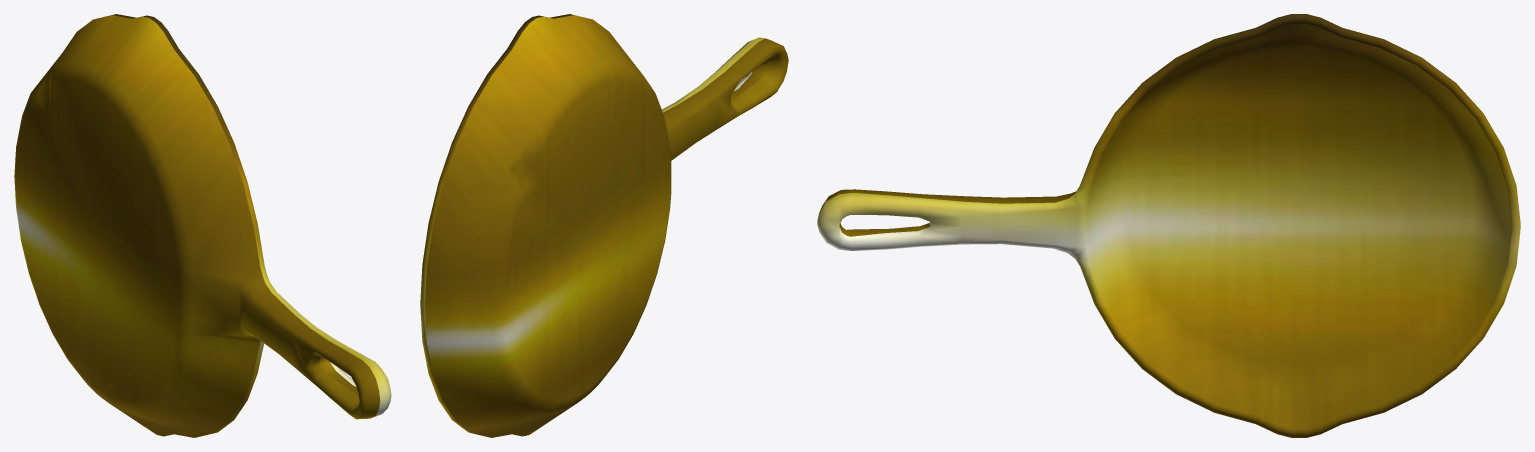
Rendered from golden_frying_pan.obj.
The picture shows the model from 3 angles, left to right: view 1: azimuth 30°, elevation 25°; view 2: azimuth 150°, elevation 25°; view 3: azimuth 270°, elevation 25°; orthographic projection. The views are drawn at different scales.
Parts seen in each view (by area): view 1: tf2FryingPan.001; view 2: tf2FryingPan.001; view 3: tf2FryingPan.001.
Boxes of the visible parts, x1,y1,x2,y2 form: tf2FryingPan.001: (14,14,391,437); tf2FryingPan.001: (420,14,788,437); tf2FryingPan.001: (817,14,1520,437).
Size of the model in its own units: 2.63 by 16.42 by 24.84.
